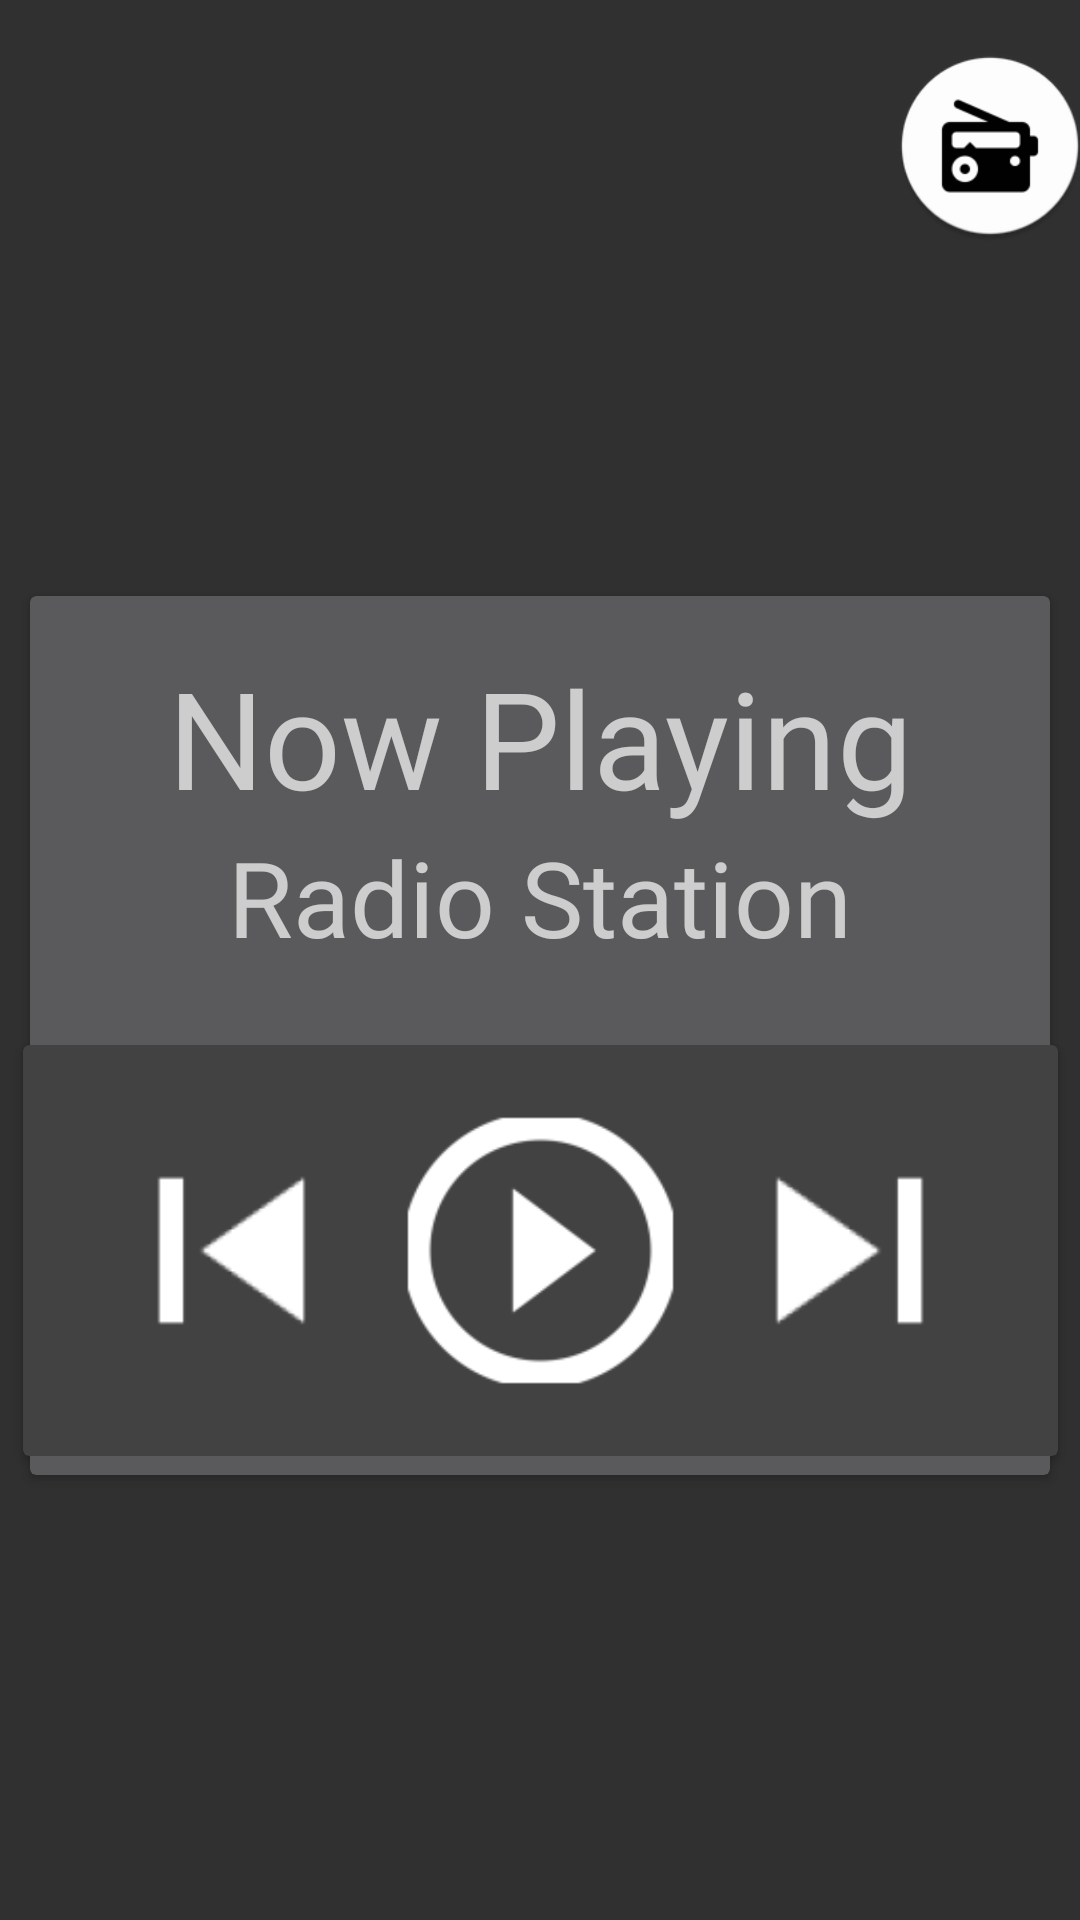

Named icons in this screenshot (1080px x 1920px) and their centers, point (x, y):
next: point (849, 1250)
play: point (540, 1250)
prev: point (231, 1250)
